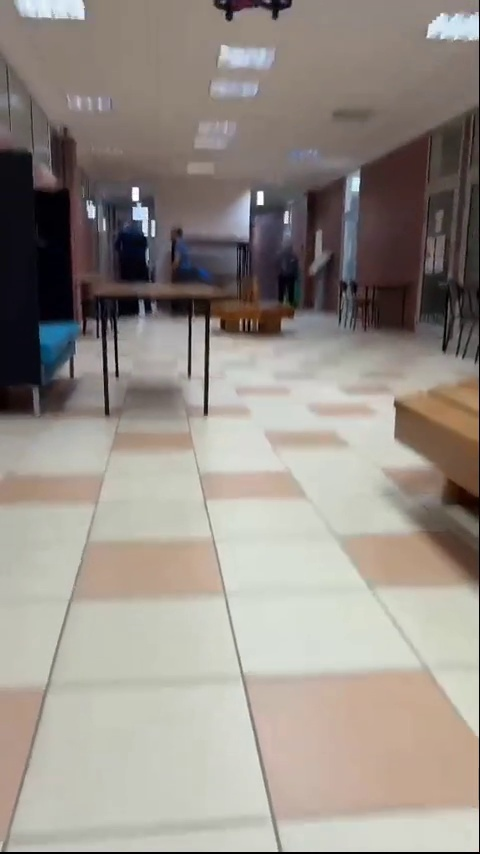drone: (210, 0, 291, 18)
no vest: (110, 211, 158, 288), (168, 222, 218, 289), (277, 235, 307, 315)
